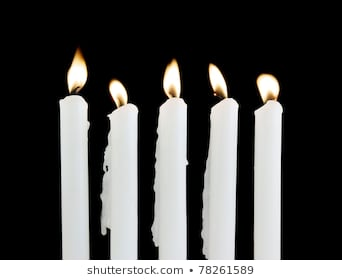Fire: (65, 48, 89, 94), (159, 58, 185, 100), (207, 61, 230, 103), (255, 73, 281, 103), (107, 77, 130, 107)
